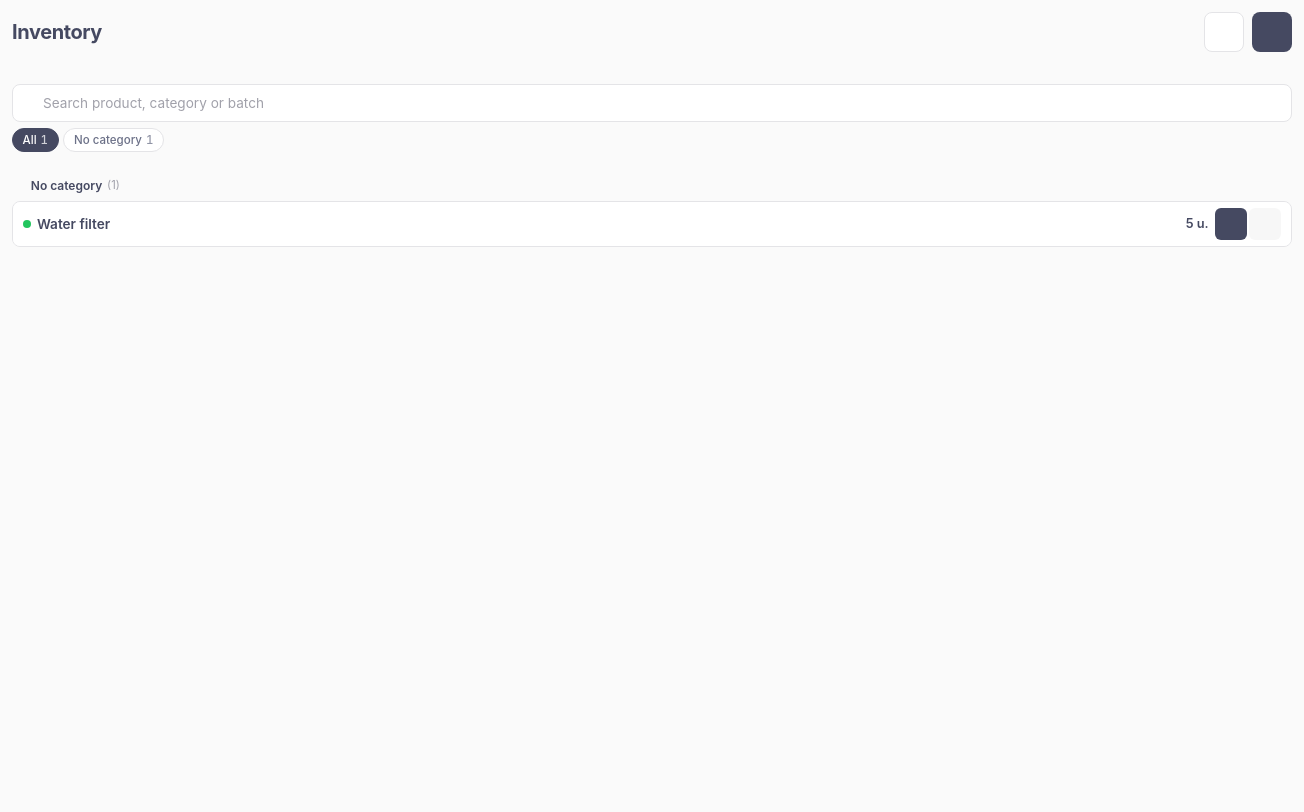
InventoryPage — −1 lot picker › shows an error toast and does not open the picker when the stock has no lots
Expected: the text "Water filter" is shown, [37,216,110,232]
Click the button named "Consume 1 unit": point(1231, 224) [1215,208,1247,240]
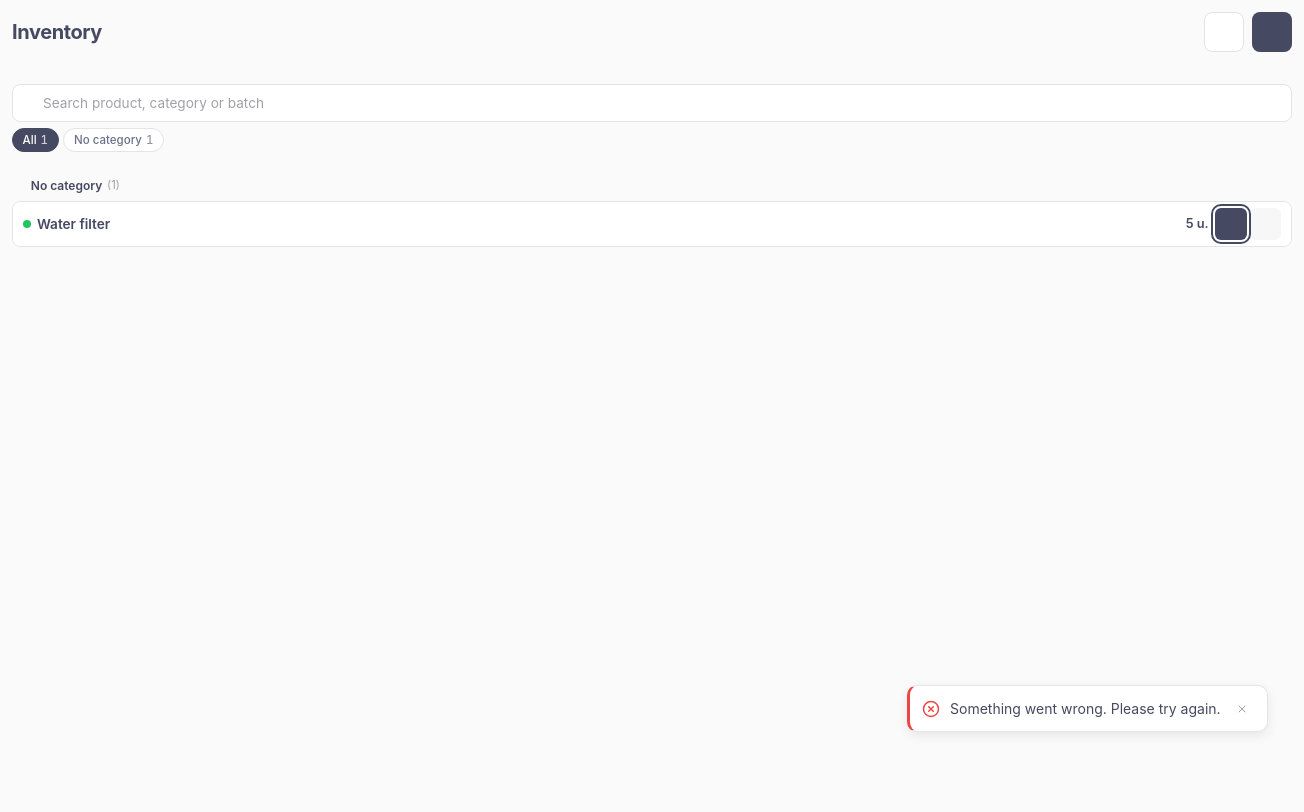
Now the text "Something went wrong. Please try again." is shown, box [950,700,1221,718]
